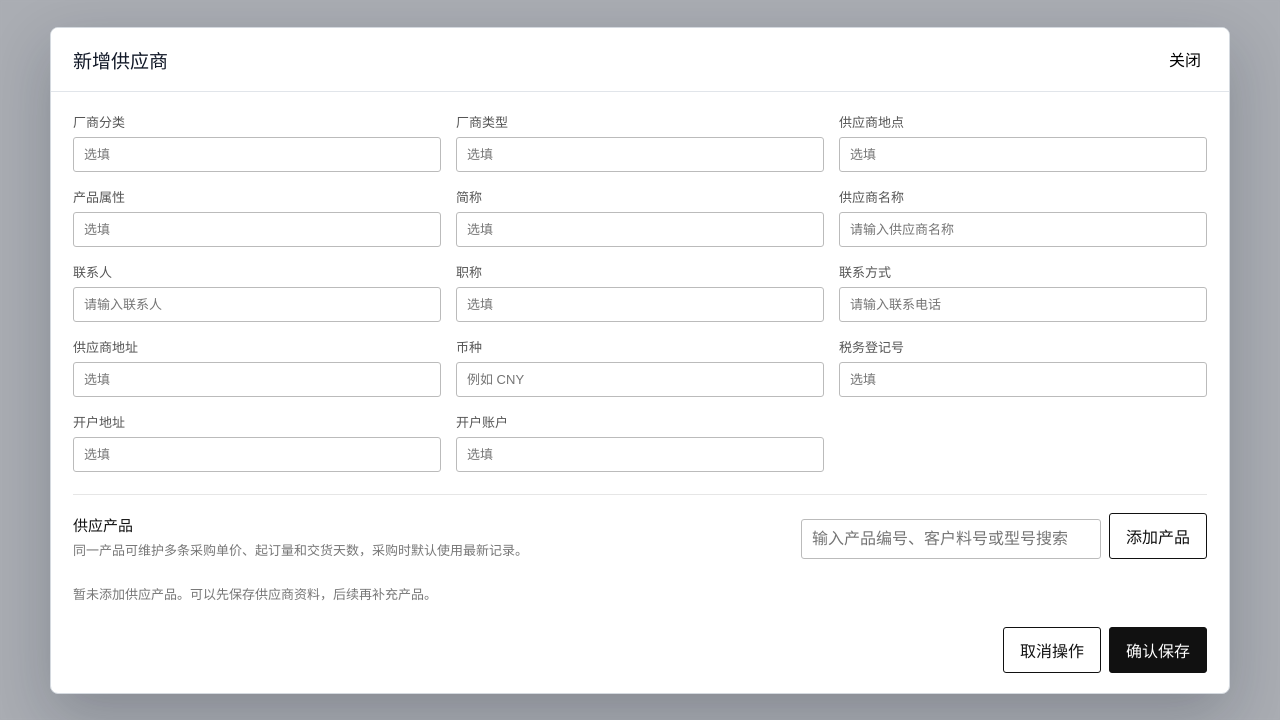
Scenario: renders product suggestions above the scrollable supplier dialog
Type "贝朗供应商" into the field with test id "supplier-name".
click(1023, 229); type("贝朗供应商")  # box [839, 212, 1207, 246]
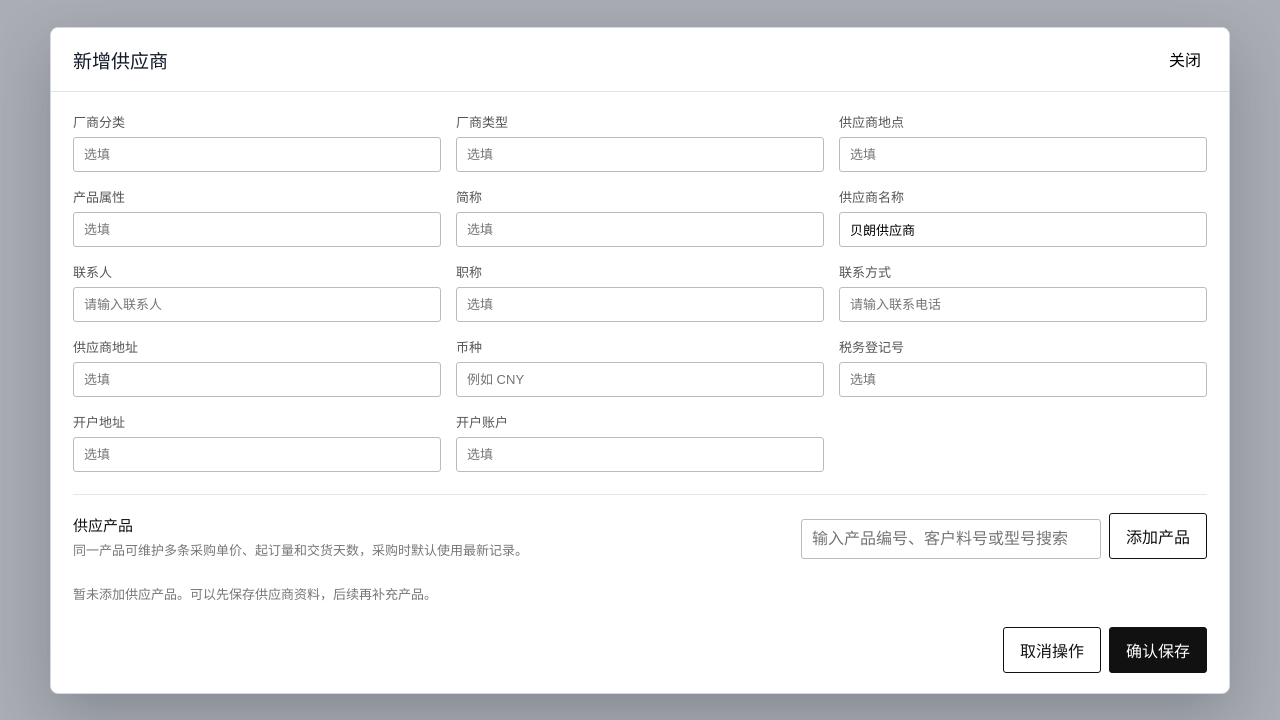
Type "P90" into the dropdown with placeholder "输入产品编号、客户料号或型号搜索".
click(951, 538); type("P90")  # box [801, 518, 1101, 558]
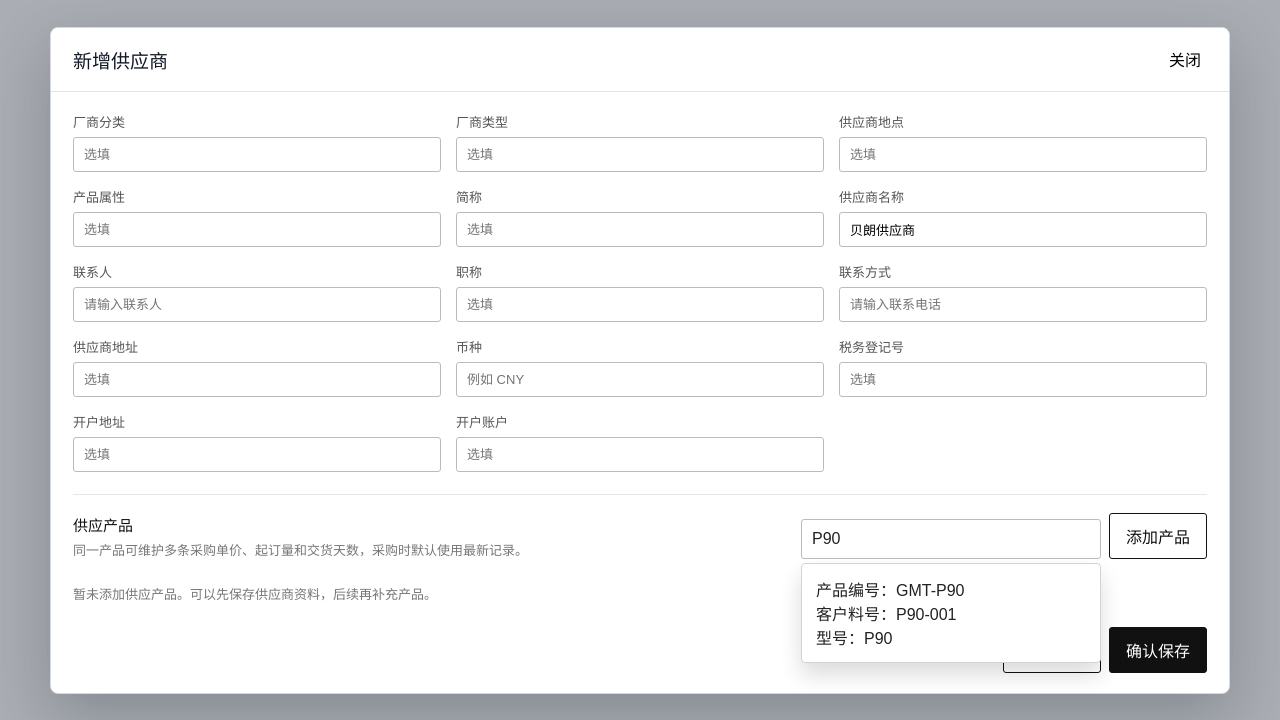
Expected: the option with test id "fuzzy-option-101" reads "产品编号：GMT-P90 客户料号：P90-001 型号：P90"
Click the option with test id "fuzzy-option-101".
click(951, 612)  # box [806, 568, 1096, 658]
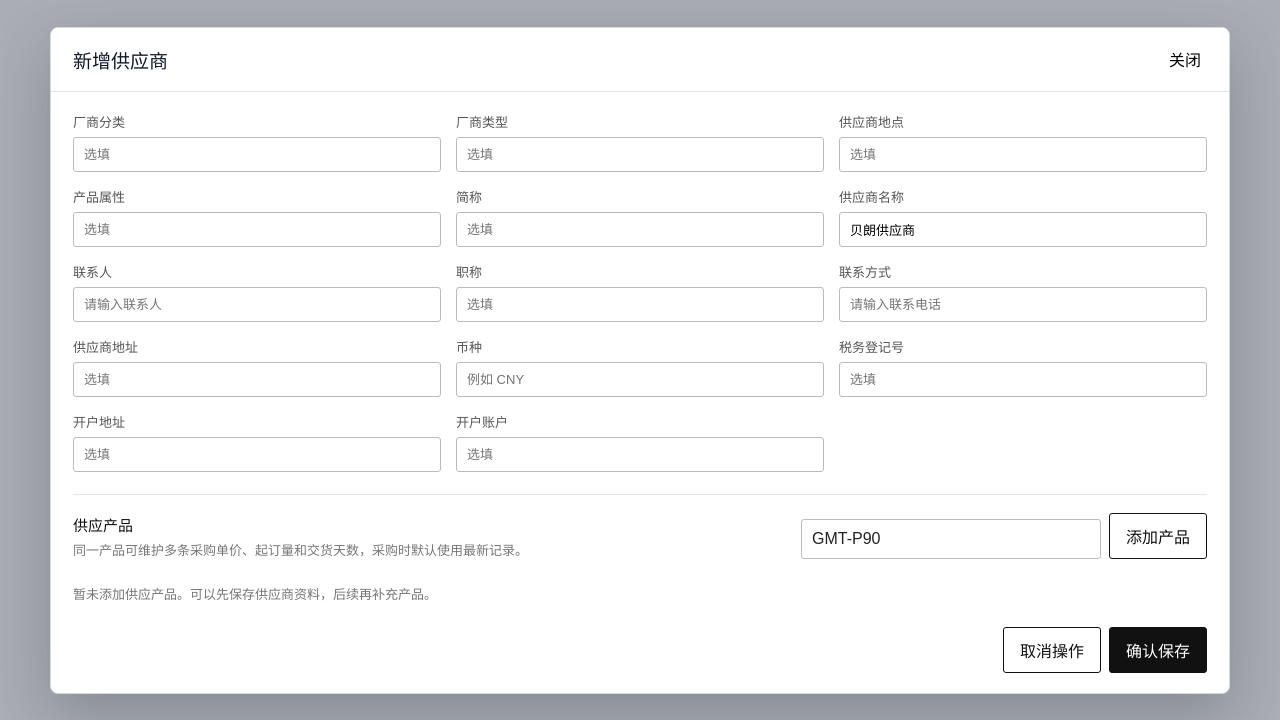
Expected: the dropdown holds "GMT-P90", [801, 518, 1101, 558]
Click the button with test id "add-supplier-product".
click(1158, 536)  # box [1109, 512, 1207, 558]
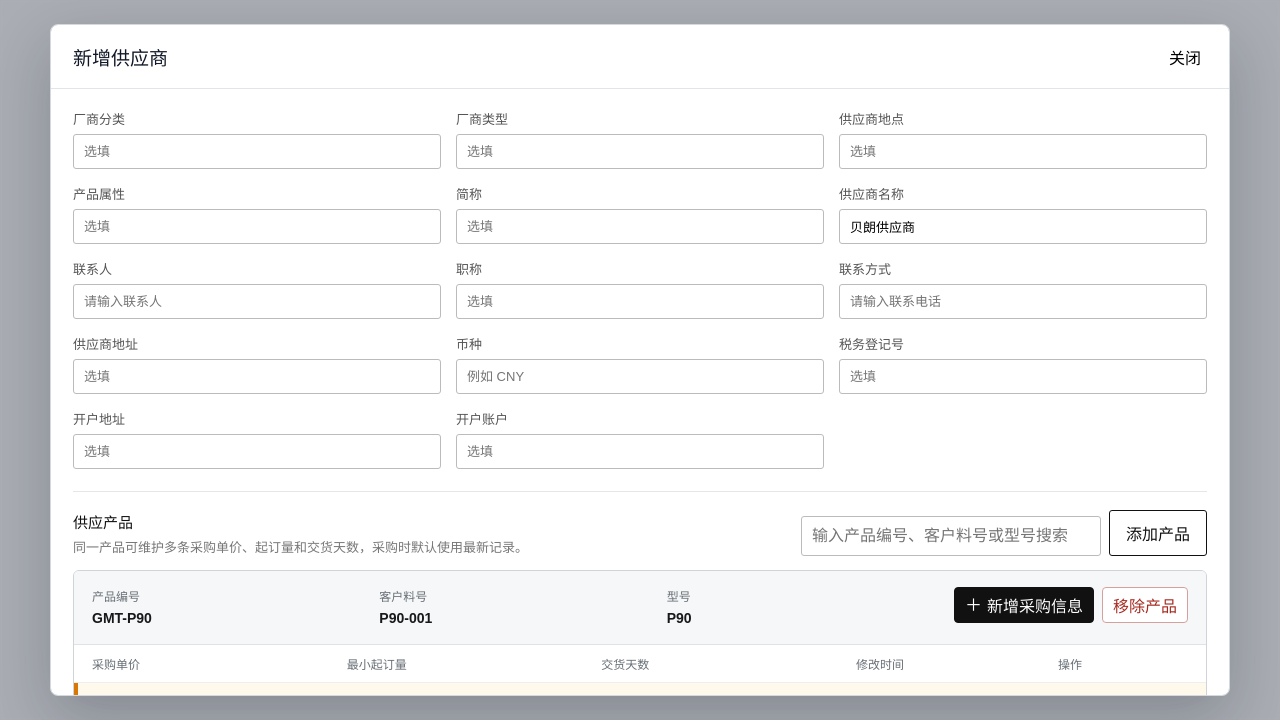
Expected: the text "P90-001" is shown, [379, 610, 432, 626]
